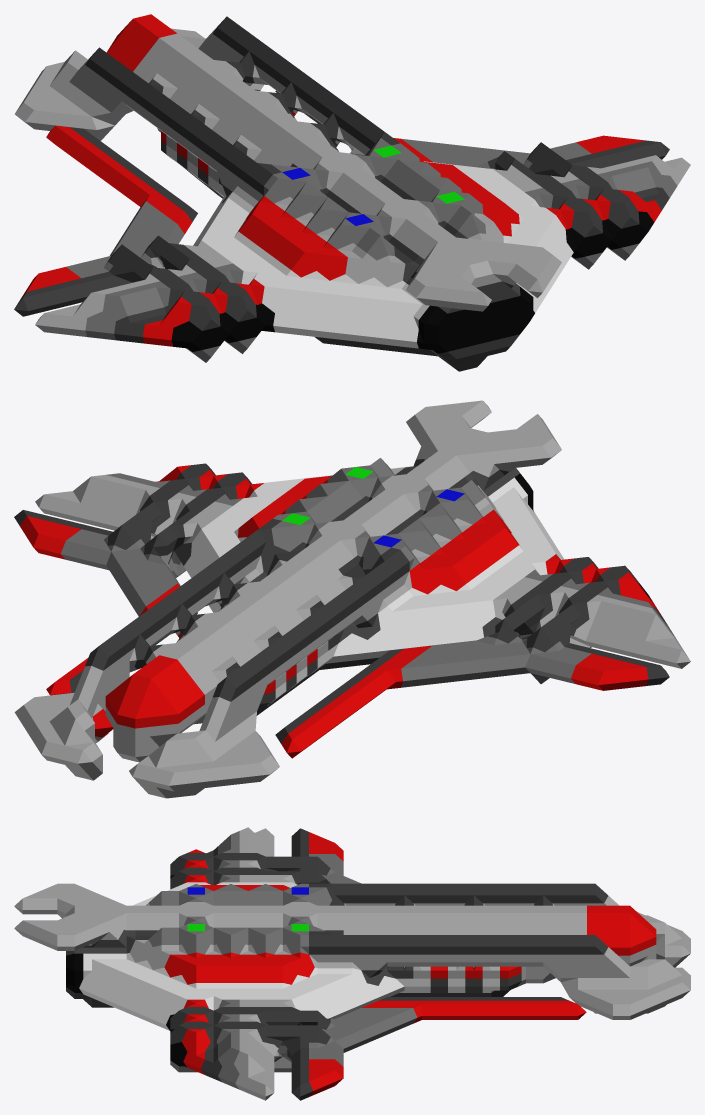
File: ship_federation_fighter_heavy.fbx
3 renders of one model, top to bottom at view 1: azimuth 30°, elevation 25°; view 2: azimuth 150°, elevation 25°; view 3: azimuth 270°, elevation 25°, orthographic. The views are drawn at different scales.
Visible parts, largest first — view 1: ship_federation_fighter_heavy.mc; view 2: ship_federation_fighter_heavy.mc; view 3: ship_federation_fighter_heavy.mc.
Boxes of the visible parts, x1,y1,x2,y2 form: ship_federation_fighter_heavy.mc: (14, 14, 690, 371); ship_federation_fighter_heavy.mc: (14, 400, 690, 798); ship_federation_fighter_heavy.mc: (14, 827, 690, 1100).
Bounding box in the file's own units: 3600 × 600 × 3900.
